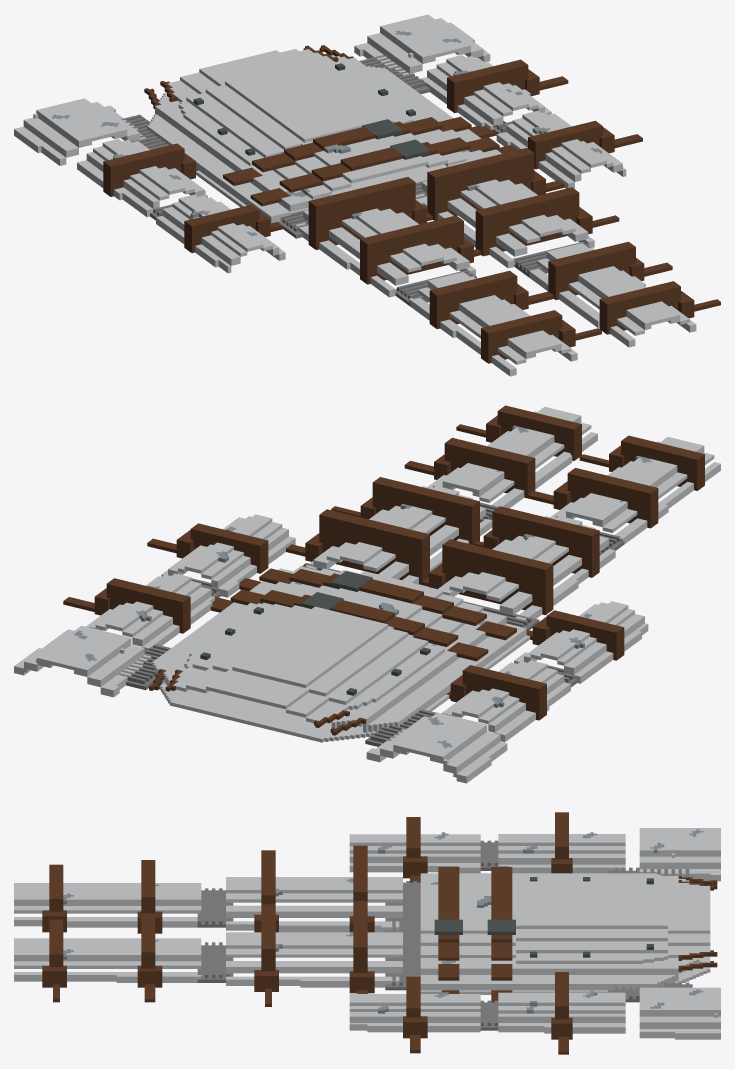
Rendered from armor_metal_sheets_chain_heavy.glb.
3 views of the same model, one above another, from view 1: azimuth 30°, elevation 25°; view 2: azimuth 150°, elevation 25°; view 3: azimuth 270°, elevation 25° (orthographic). The views are drawn at different scales.
Visible parts, largest first — view 1: armor_metal_sheets_chain_heavy:compound; view 2: armor_metal_sheets_chain_heavy:compound; view 3: armor_metal_sheets_chain_heavy:compound.
Boxes of the visible parts, x1,y1,x2,y2 form: armor_metal_sheets_chain_heavy:compound: (14,14,720,376); armor_metal_sheets_chain_heavy:compound: (14,405,720,783); armor_metal_sheets_chain_heavy:compound: (14,812,720,1054).
Size of the model in its own units: 0.876 by 0.078 by 1.2.
